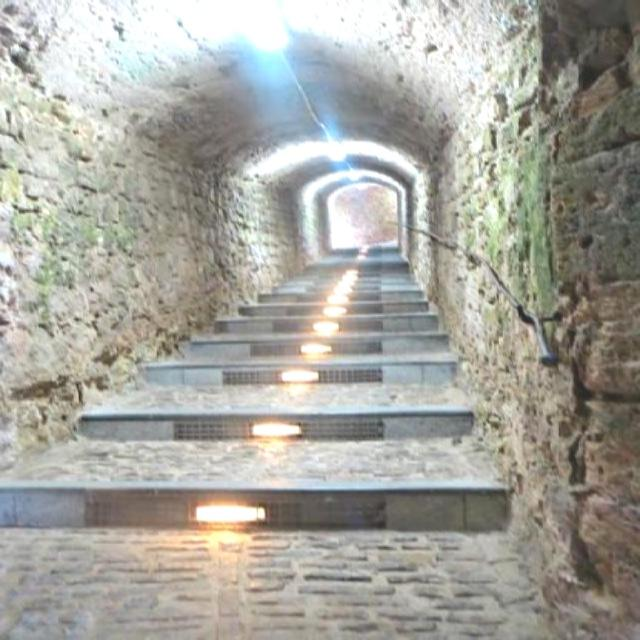stair: (0, 241, 556, 640)
